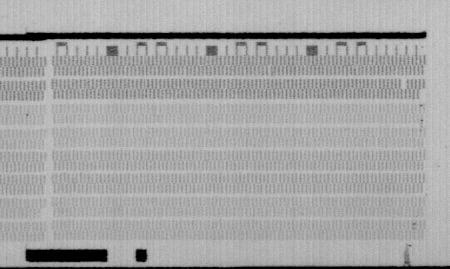Broken hole: (398, 78, 410, 90), (417, 89, 427, 100), (38, 209, 46, 219)
